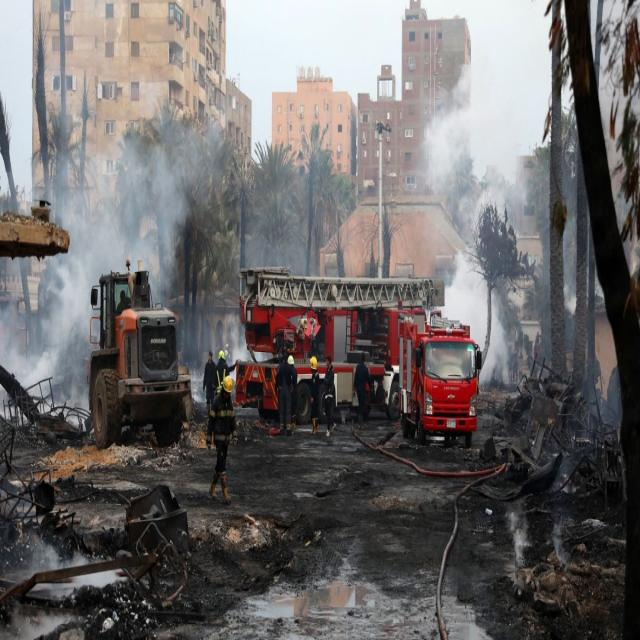Fire-truck: (384, 297, 503, 457)
person: (205, 375, 238, 504), (275, 353, 293, 436), (352, 351, 370, 430), (322, 354, 336, 436), (309, 356, 320, 436), (287, 355, 298, 429), (116, 290, 131, 314)
